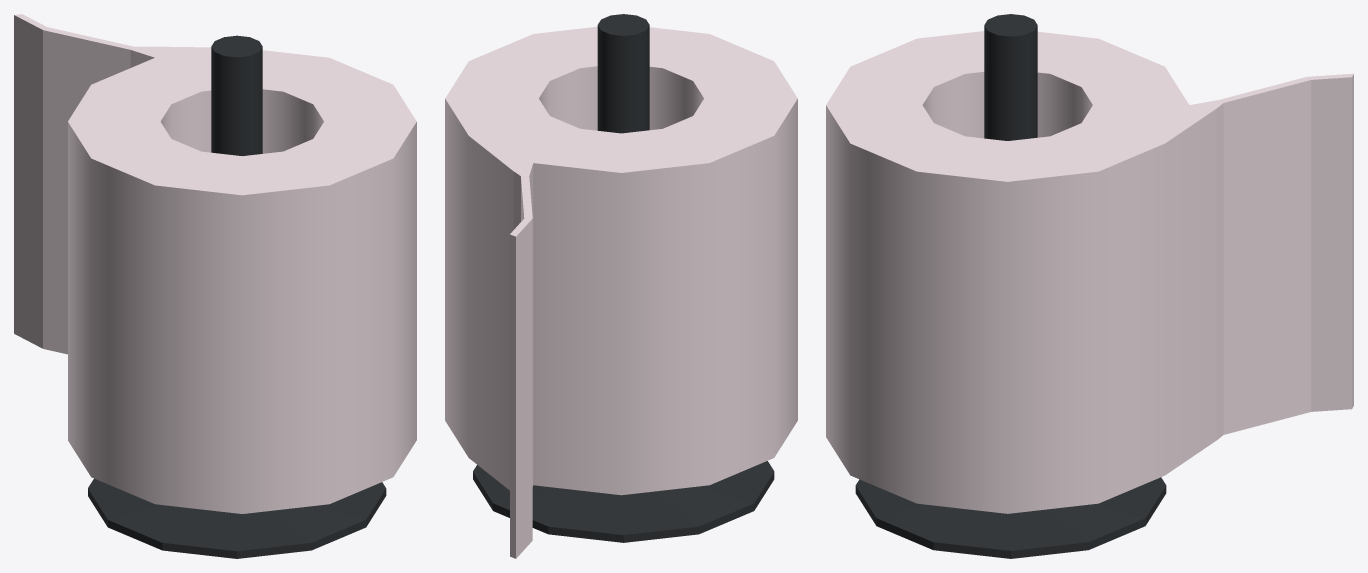
Rendered from SM_roll_invoice.fbx.
3 renders of one model, left to right at view 1: azimuth 30°, elevation 25°; view 2: azimuth 150°, elevation 25°; view 3: azimuth 270°, elevation 25°, orthographic. The views are drawn at different scales.
Visible parts, largest first — view 1: roll_invoice; view 2: roll_invoice; view 3: roll_invoice.
Boxes of the visible parts, x1,y1,x2,y2 form: roll_invoice: [14, 14, 416, 558]; roll_invoice: [445, 14, 797, 558]; roll_invoice: [826, 14, 1353, 558].
Size of the model in its own units: 15.86 by 22.53 by 23.03.
